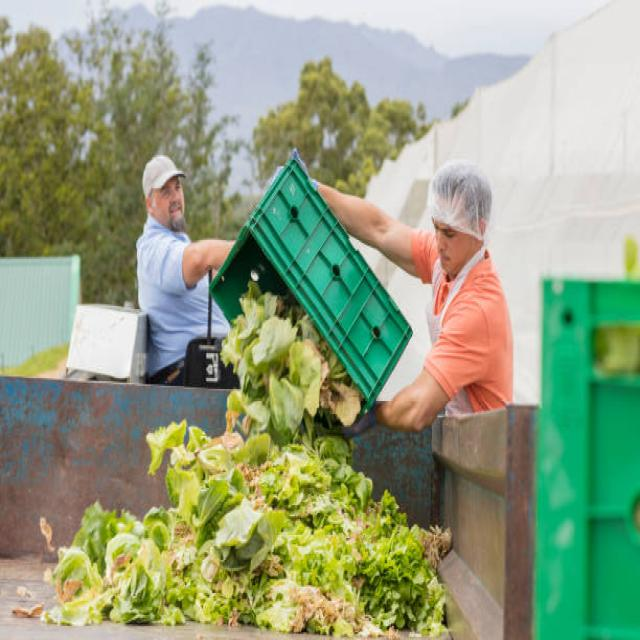trash: (50, 284, 416, 640)
